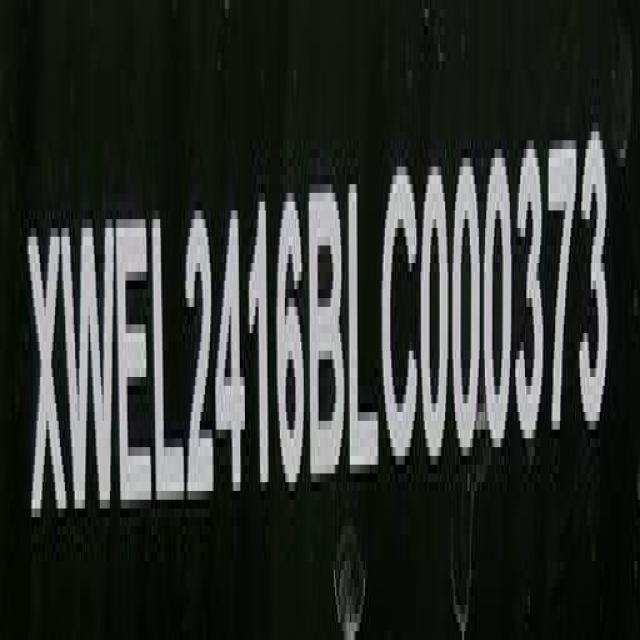0: (422, 157, 450, 465), (484, 148, 512, 456), (455, 153, 482, 463)
1: (251, 196, 274, 500)
2: (187, 204, 215, 517)
3: (582, 127, 614, 440), (516, 137, 546, 455)
4: (215, 200, 247, 509)
6: (276, 184, 307, 497)
7: (549, 130, 576, 450)
B: (310, 178, 344, 490)
C: (384, 166, 421, 478)
E: (118, 212, 154, 528)
L: (350, 172, 380, 488), (154, 208, 183, 524)
W: (66, 210, 117, 533)
X: (28, 214, 68, 541)
